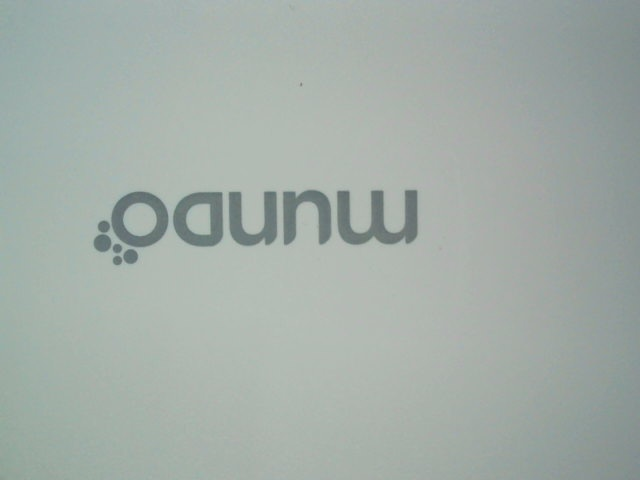BI_MUNDO: (82, 170, 448, 277)
